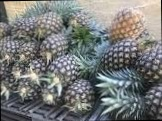Pineapple: (41, 19, 91, 61), (105, 6, 149, 49), (68, 63, 95, 116)
